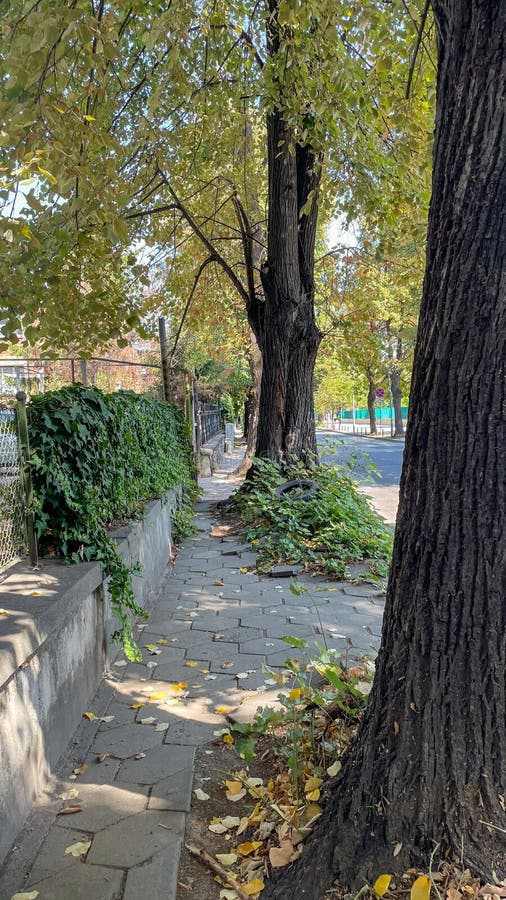Tree: (72, 1, 395, 562)
